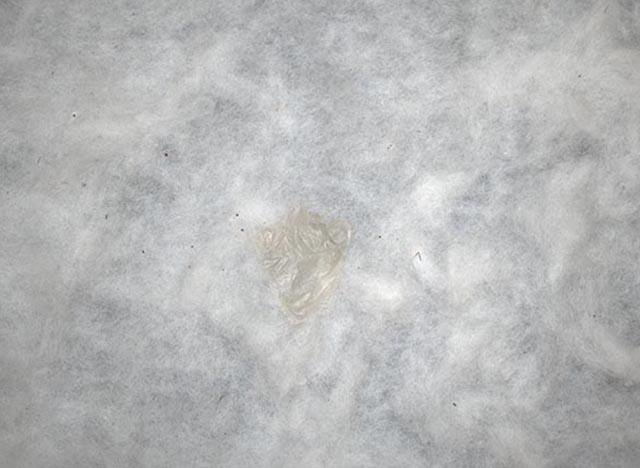plastic film: (250, 206, 351, 324)
